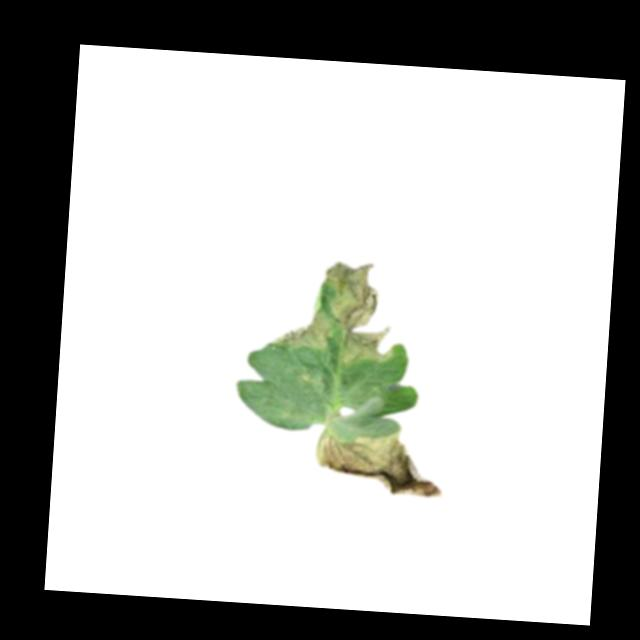Late_blight: (264, 256, 404, 368), (315, 432, 449, 504)
